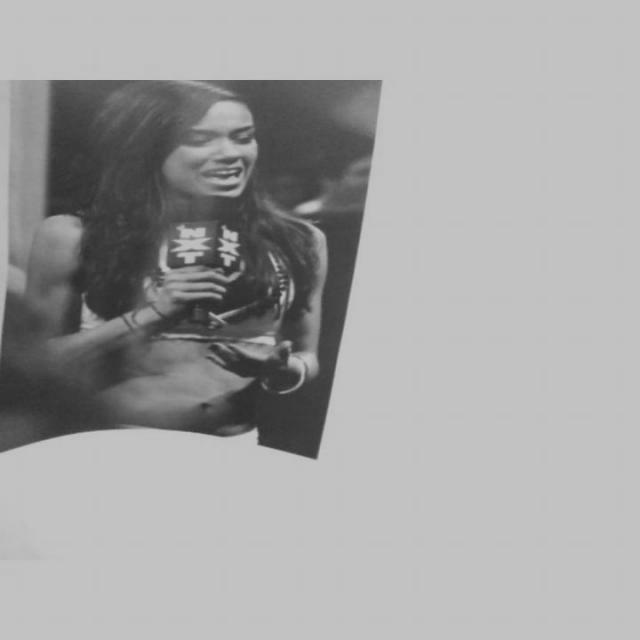fake: (0, 79, 431, 469)
